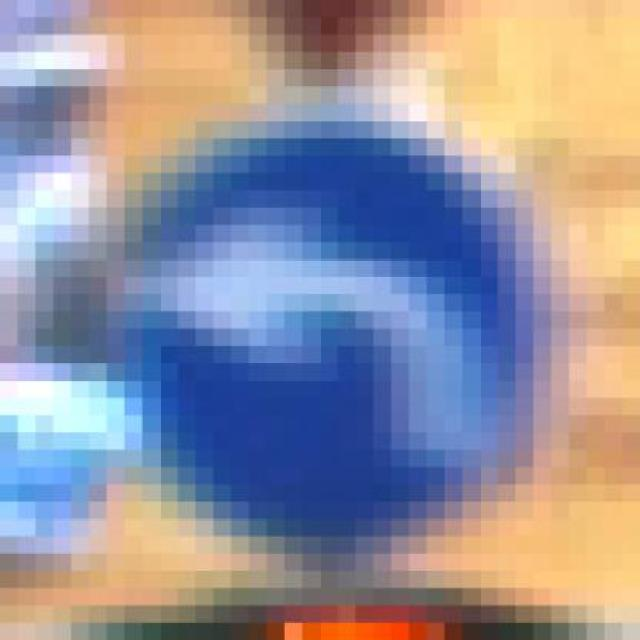Turn left ahead: (89, 69, 569, 571)
